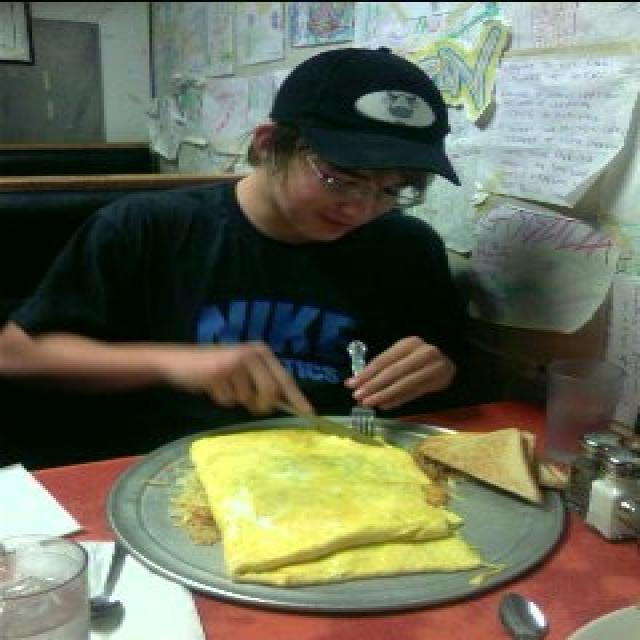diningtable: (4, 395, 638, 639)
person: (4, 47, 481, 471)
